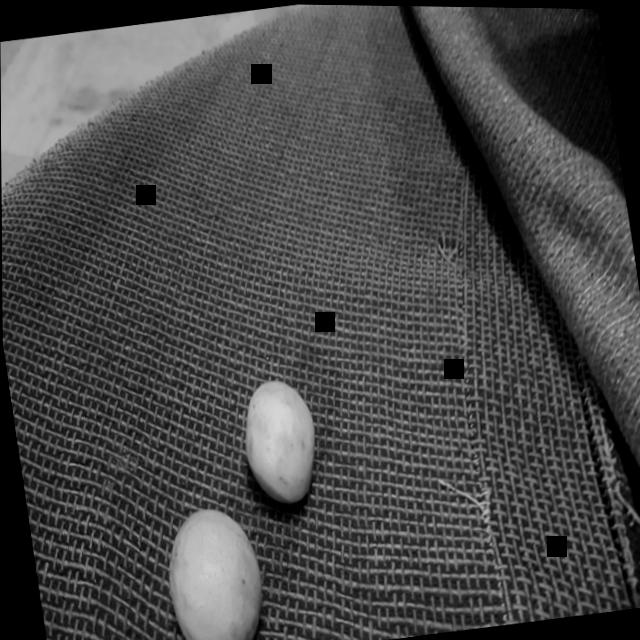lemon: (154, 494, 275, 640), (224, 364, 338, 512)
